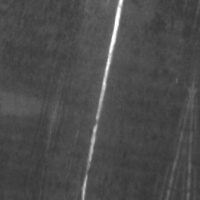scratches: (80, 0, 125, 187)
